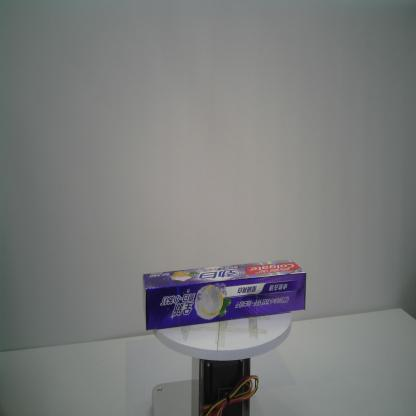Personal Hygiene: (143, 259, 306, 331)
